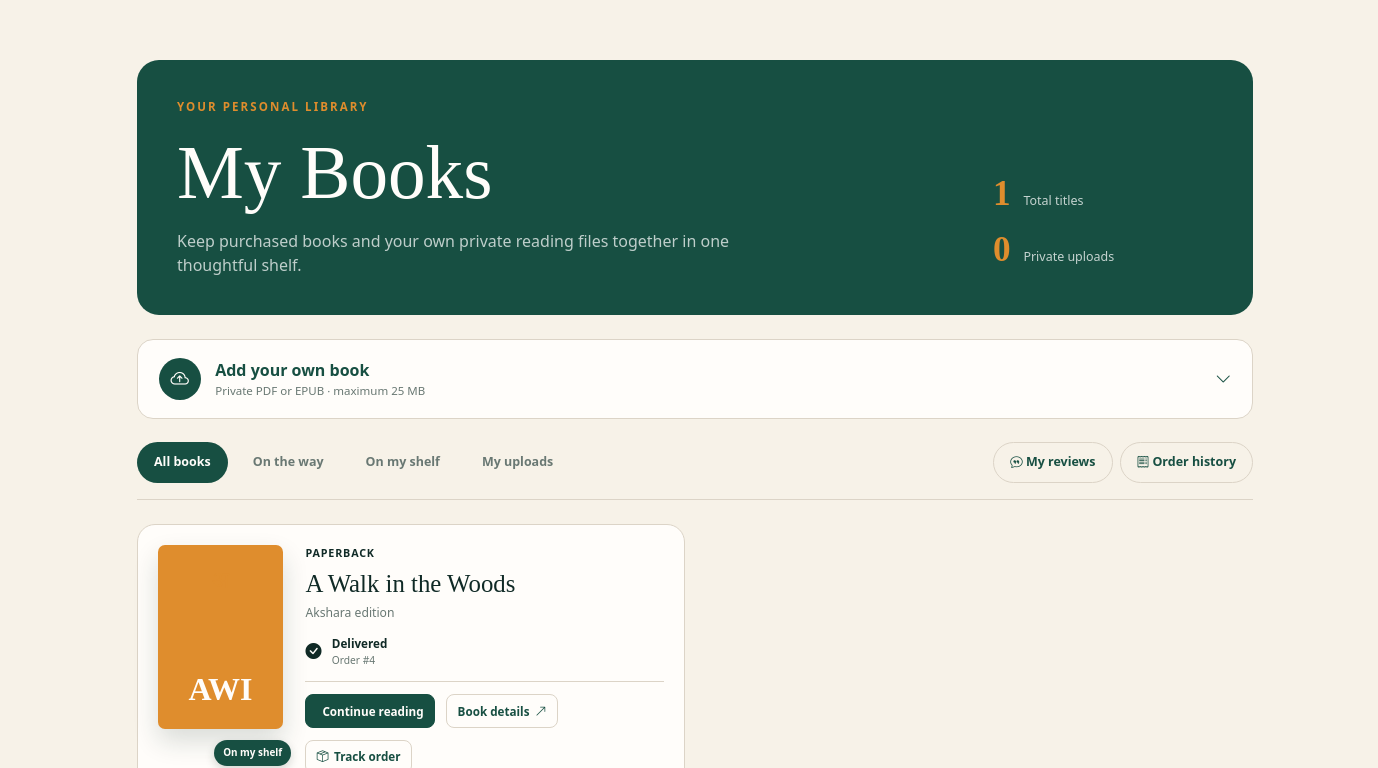
MyBooksPage reading actions › continues an existing journey instead of creating it again
Click the button "Continue reading": (370, 711) [305,694,435,728]
(page scrolled)
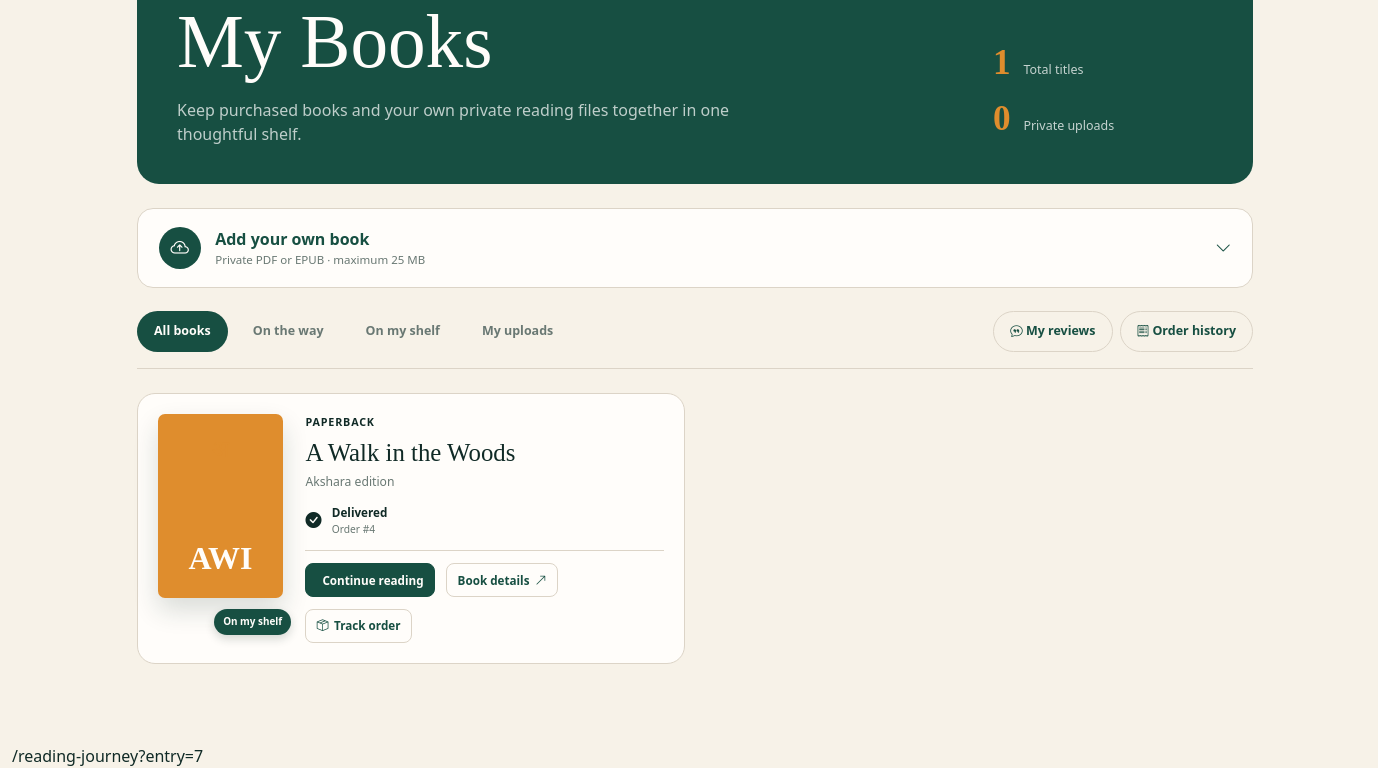
Expected: the text "/reading-journey?entry=7" is shown, [12,745,203,767]
